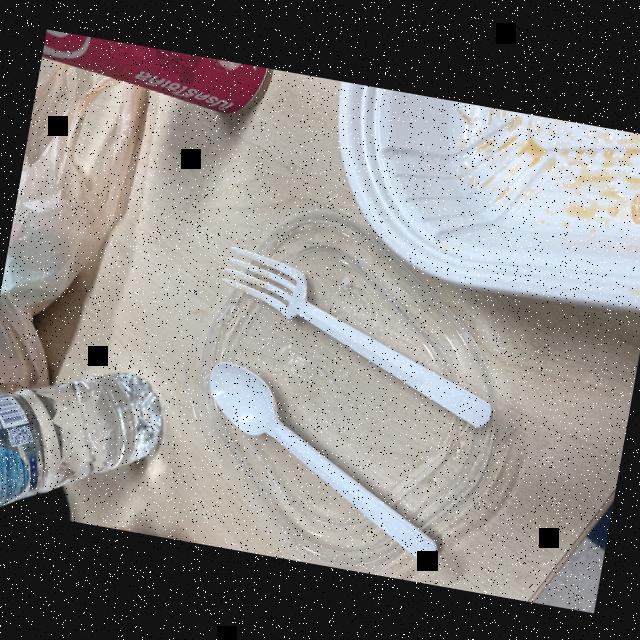plastic_cultery: (199, 235, 514, 442), (174, 350, 464, 570)
